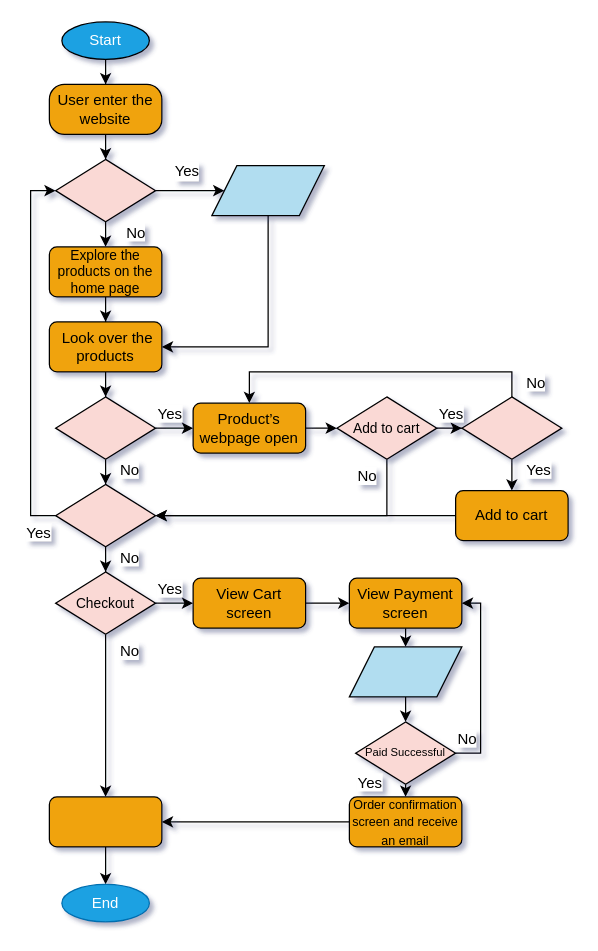
Some shapes in this 598 by 951 pixel diagram are drawn without their labels. The centre of each missing label's shape, as x and y in pixels:
Added to cart confirmation: the point at 511,427
Continue shopping: the point at 105,515
Leave the website: the point at 105,821
Payment information: the point at 405,671
Search for a product: the point at 105,190
Their search: the point at 267,190
view specific product: the point at 105,427
